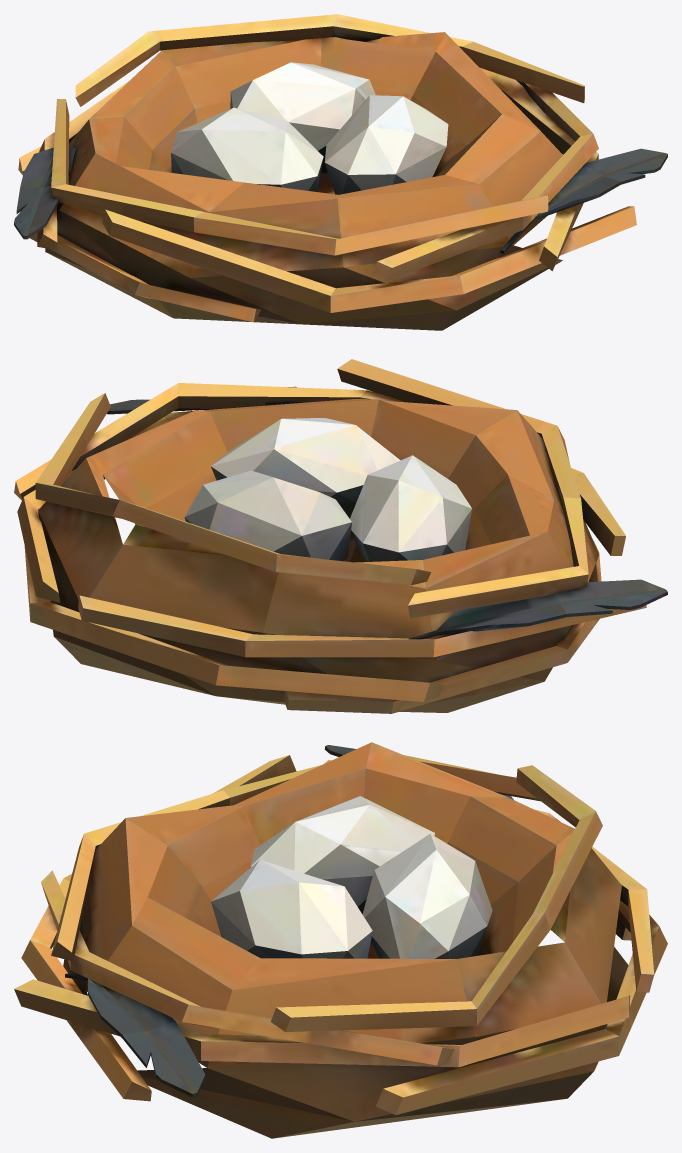
File: nature-birds-nest-240.glb
3 views of the same model, one above another, from view 1: azimuth 30°, elevation 25°; view 2: azimuth 150°, elevation 25°; view 3: azimuth 270°, elevation 25° (orthographic). The views are drawn at different scales.
Parts seen in each view (by area): view 1: birds_nest; view 2: birds_nest; view 3: birds_nest.
Boxes of the visible parts, <box> form: birds_nest: <box>14,14,667,330</box>; birds_nest: <box>14,359,667,713</box>; birds_nest: <box>14,742,667,1138</box>.
Bounding box in the file's own units: 2.32 × 0.695 × 1.95.
Materials: 1 (1 with a texture image).
